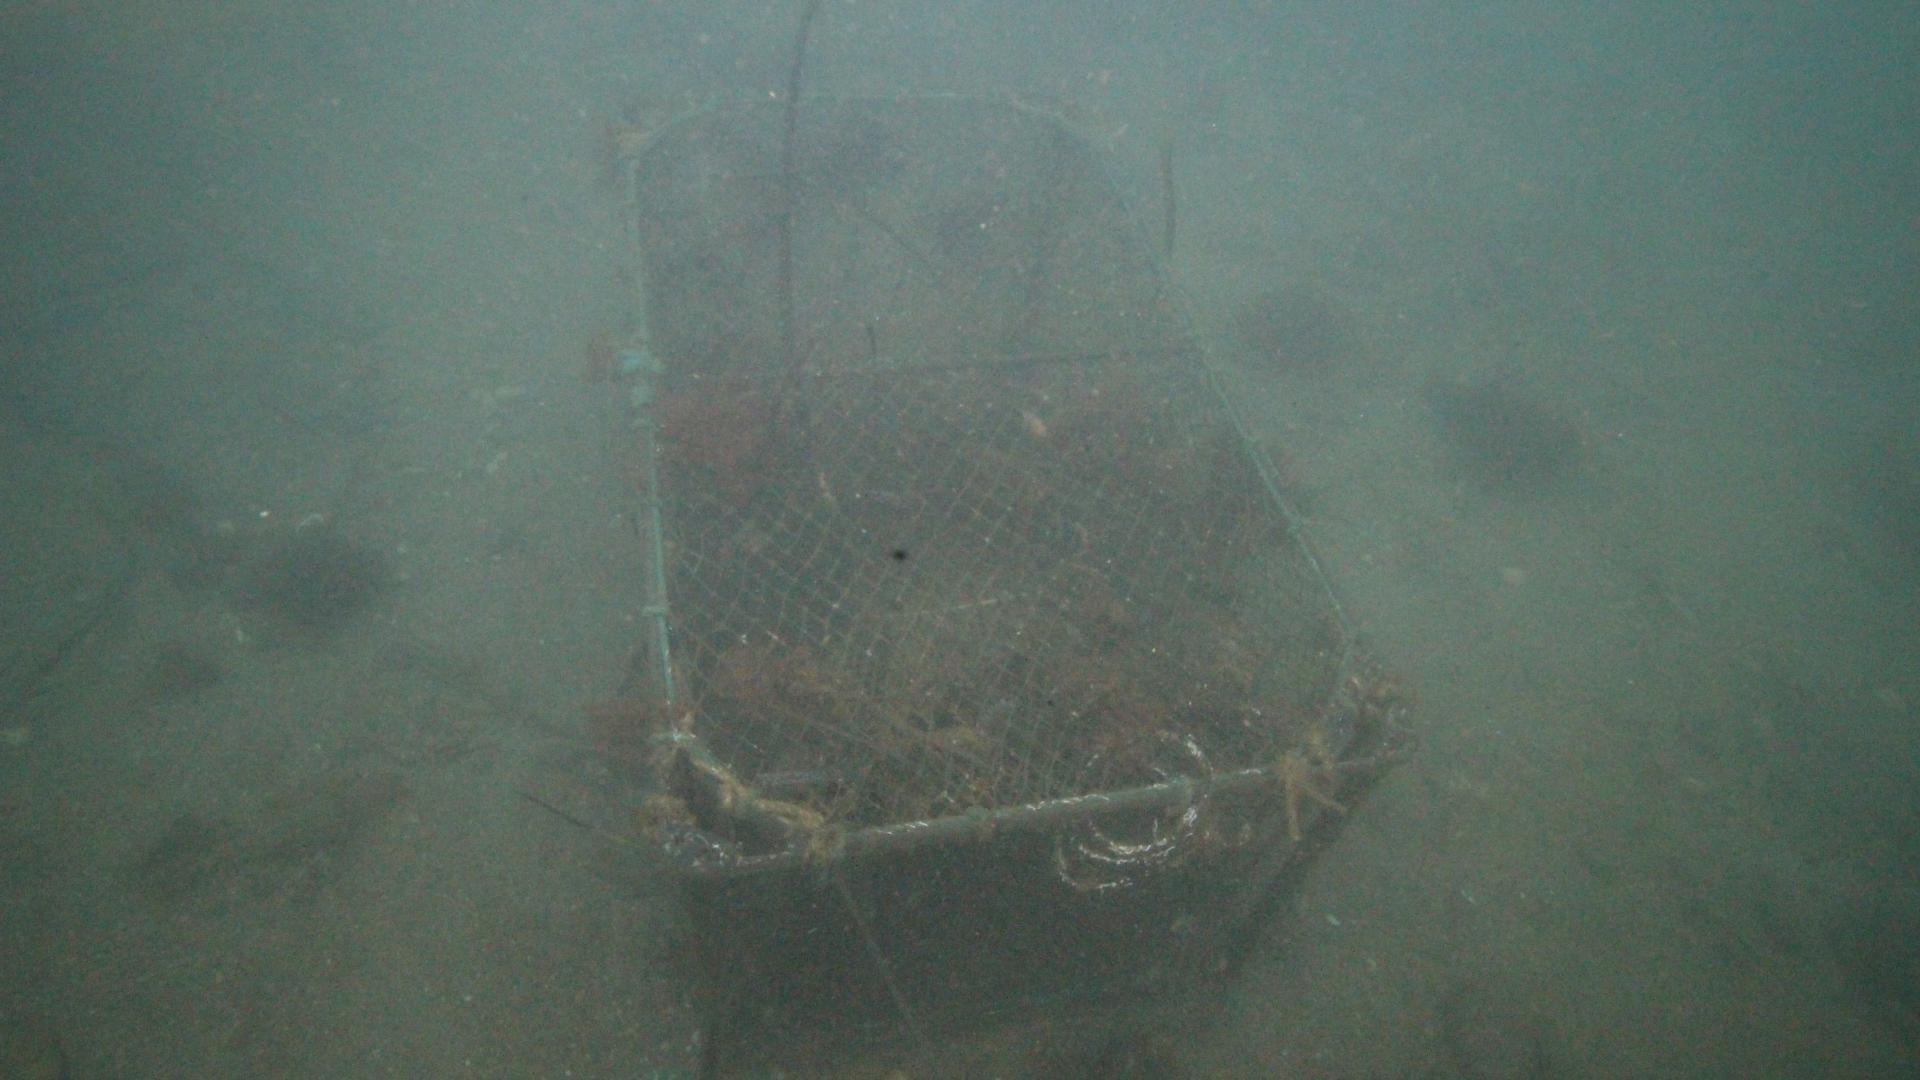rectangular fish trap: (607, 84, 1429, 1080)
